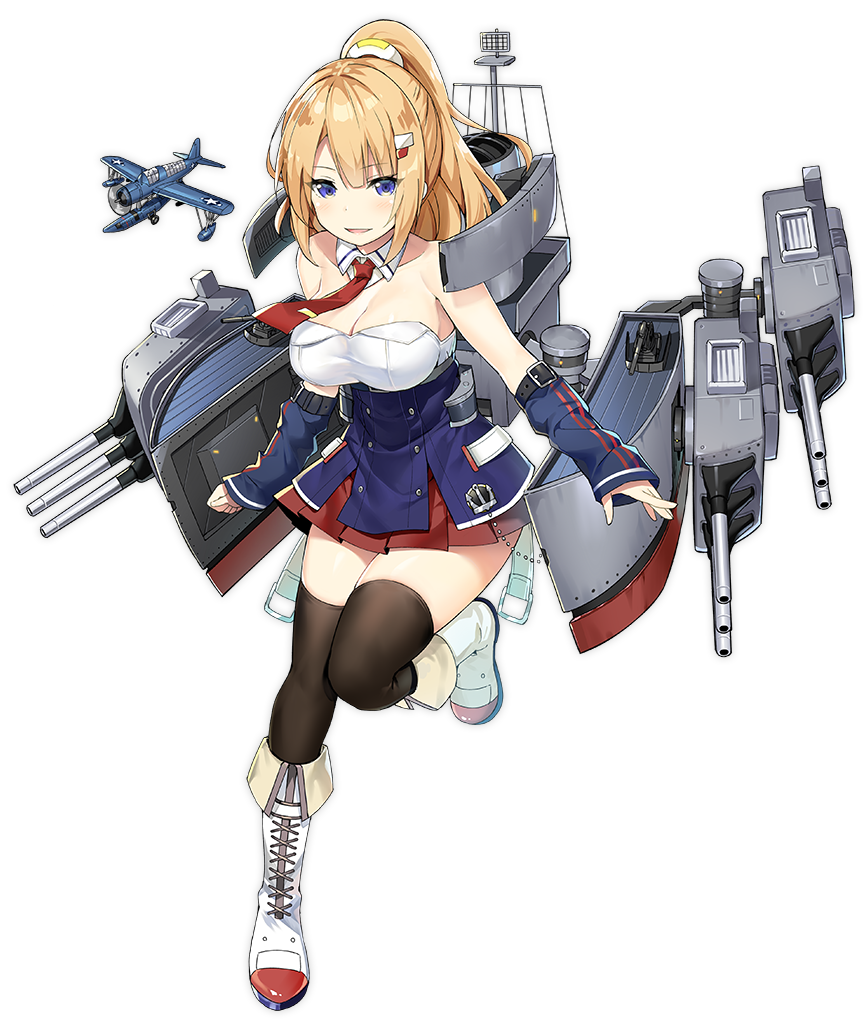person: (136, 49, 616, 785)
